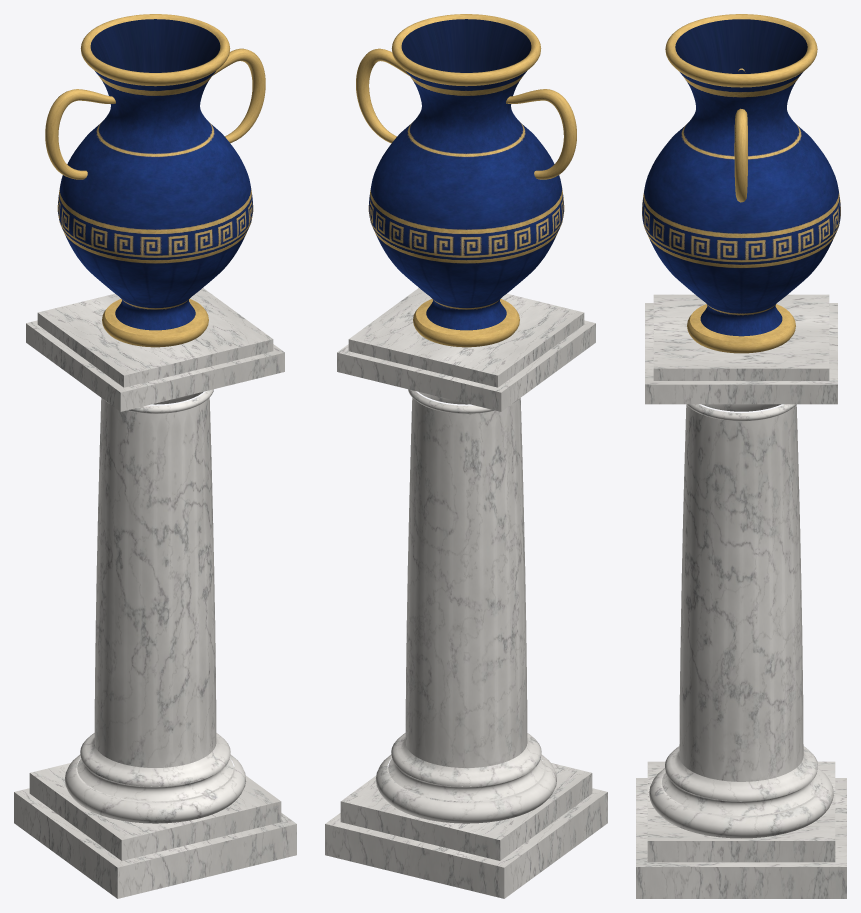
File: classic_vase_pedestal.glb
3 views of the same model, side by side, from view 1: azimuth 30°, elevation 25°; view 2: azimuth 150°, elevation 25°; view 3: azimuth 270°, elevation 25° (orthographic).
Parts seen in each view (by area): view 1: Pedestal_Marble, Vase_Porcelain, Vase_GiltMounts; view 2: Pedestal_Marble, Vase_Porcelain, Vase_GiltMounts; view 3: Pedestal_Marble, Vase_Porcelain, Vase_GiltMounts.
Boxes of the visible parts, <box> form: Pedestal_Marble: <box>14,288,296,898</box>; Vase_Porcelain: <box>57,19,253,330</box>; Vase_GiltMounts: <box>45,14,265,347</box>; Pedestal_Marble: <box>325,288,607,898</box>; Vase_Porcelain: <box>368,19,564,330</box>; Vase_GiltMounts: <box>356,14,576,347</box>; Pedestal_Marble: <box>636,294,846,898</box>; Vase_Porcelain: <box>642,19,840,336</box>; Vase_GiltMounts: <box>665,14,817,353</box>.
Bounding box in the file's own units: 0.4403 × 1.53 × 0.36.
3 materials, 3 textured.
